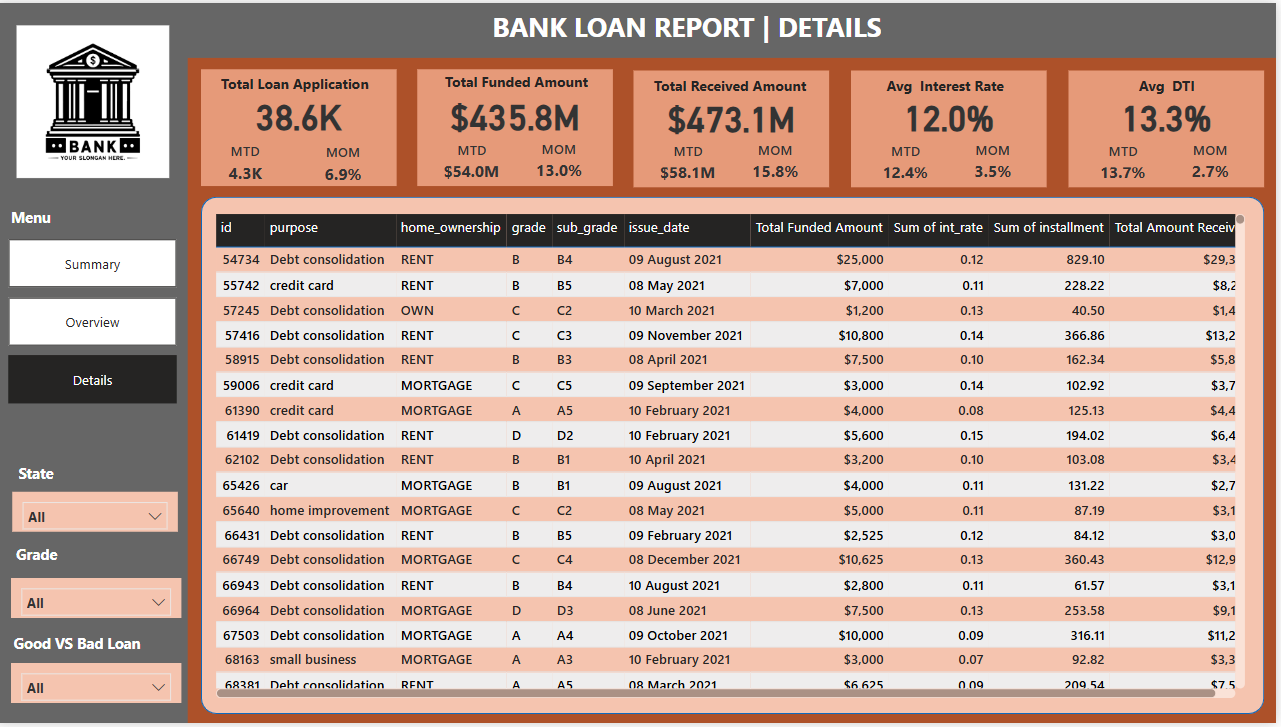

The page's visual inventory and layout, read from the dashboard file:
{"tool":"powerbi","page":{"name":"Details","canvas":[1280,720],"ordinal":2},"visuals":[{"type":"shape","box":[204.5,193.5,1063.5,517.3],"z":0},{"type":"shape","box":[0,0,1280,54.9],"z":1000},{"type":"shape","box":[0,51.9,191.8,668.4],"z":2000},{"type":"textbox","box":[491.3,0,447.3,52.1],"z":3000},{"type":"shape","box":[204.4,65.7,195.6,116.8],"z":3000,"group":"g1"},{"type":"shape","box":[421.3,65.9,195.6,116.8],"z":3000,"group":"g2"},{"type":"shape","box":[638.3,67.2,195.6,116.8],"z":3000,"group":"g3"},{"type":"shape","box":[855.2,67.2,195.6,116.8],"z":3000,"group":"g4"},{"type":"shape","box":[1072.1,67.2,195.6,116.8],"z":3000,"group":"g5"},{"type":"card","fields":{"Values":["bank_loan_data.Total Loan Applications"]},"box":[204.4,86.1,195.6,51.1],"z":4000,"group":"g1"},{"type":"card","fields":{"Values":["bank_loan_data.Total Funded Amount"]},"box":[421.3,86.3,195.6,51.1],"z":4000,"group":"g2"},{"type":"card","fields":{"Values":["bank_loan_data.Avg Interest Rate"]},"box":[855.2,87.6,195.6,51.1],"z":4000,"group":"g4"},{"type":"card","fields":{"Values":["bank_loan_data.Avg DTI"]},"box":[1072.1,87.6,195.6,51.1],"z":4000,"group":"g5"},{"type":"card","fields":{"Values":["bank_loan_data.Total Amount Received"]},"box":[638.3,87.7,195.6,51.1],"z":4000,"group":"g3"},{"type":"textbox","box":[277.5,206.3,146,38.6],"z":4000},{"type":"textbox","box":[436,63.3,179.8,32.9],"z":5000,"group":"g2"},{"type":"group","id":"g1","title":"Group 1","box":[204.4,65.7,195.6,121.9],"z":5000},{"type":"textbox","box":[219,65.7,166.4,30.7],"z":5000,"group":"g1"},{"type":"textbox","box":[634.2,66.9,208.6,32.9],"z":5000,"group":"g3"},{"type":"textbox","box":[869.8,67.2,166.4,30.7],"z":5000,"group":"g4"},{"type":"textbox","box":[1086.7,67.2,166.4,30.7],"z":5000,"group":"g5"},{"type":"group","id":"g2","title":"Group 1","box":[421.3,63.3,195.6,120.8],"z":6000},{"type":"card","title":"MTD","fields":{"Values":["bank_loan_data.MTD Funded Amount"]},"box":[438.8,137.4,74.5,42.3],"z":6000,"group":"g2"},{"type":"card","title":"MTD","fields":{"Values":["bank_loan_data.MTD Loan Applications"]},"box":[219,138.7,58.4,48.2],"z":6000,"group":"g1"},{"type":"card","title":"MTD","fields":{"Values":["bank_loan_data.MTD Avg Int Rate"]},"box":[872.7,138.7,74.5,42.3],"z":6000,"group":"g4"},{"type":"card","title":"MTD","fields":{"Values":["bank_loan_data.MTD Avg DTI"]},"box":[1089.6,138.7,74.5,42.3],"z":6000,"group":"g5"},{"type":"card","title":"MTD","fields":{"Values":["bank_loan_data.MTD Total Amount Rececived"]},"box":[655.8,138.8,74.5,42.3],"z":6000,"group":"g3"},{"type":"group","id":"g3","title":"Group 1","box":[634.2,66.9,208.6,118.6],"z":7000},{"type":"card","title":"MOM","fields":{"Values":["bank_loan_data.MOM Total Funded Amount"]},"box":[533.7,135.9,58.4,48.2],"z":7001,"group":"g2"},{"type":"card","title":"MOM","fields":{"Values":["bank_loan_data.MOM Total Amount Received"]},"box":[750.7,137.3,58.4,48.2],"z":7001,"group":"g3"},{"type":"card","title":"MOM","fields":{"Values":["bank_loan_data.MOM Avg Int Rate"]},"box":[967.6,137.3,58.4,48.2],"z":7001,"group":"g4"},{"type":"card","title":"MOM","fields":{"Values":["bank_loan_data.MOM Avg DTI"]},"box":[1184.5,137.3,58.4,48.2],"z":7001,"group":"g5"},{"type":"card","title":"MOM","fields":{"Values":["bank_loan_data.MOM Loan Applications"]},"box":[316.6,139.3,59.1,48.3],"z":7001,"group":"g1"},{"type":"group","id":"g4","title":"Group 1","box":[855.2,67.2,195.6,118.2],"z":8000},{"type":"group","id":"g5","title":"Group 1","box":[1072.1,67.2,194.9,119.4],"z":9000},{"type":"slicer","fields":{"Values":["bank_loan_data.address_state"]},"box":[15.7,488.6,165.3,39.8],"z":10000},{"type":"textbox","box":[17.8,455.6,64.5,32.9],"z":11000},{"type":"slicer","fields":{"Values":["bank_loan_data.grade"]},"box":[15.1,575,170.2,39.8],"z":12000},{"type":"textbox","box":[15.1,536.5,63.1,37],"z":13000},{"type":"slicer","fields":{"Values":["bank_loan_data.Good VS Bad loan"]},"box":[15.1,660,170.2,39.8],"z":14000},{"type":"textbox","box":[12.1,624.9,160.5,35],"z":15000},{"type":"textbox","box":[9.7,199.1,137.5,37.4],"z":16000},{"type":"tableEx","fields":{"Values":["bank_loan_data.id","bank_loan_data.purpose","bank_loan_data.home_ownership","bank_loan_data.grade","bank_loan_data.sub_grade","bank_loan_data.issue_date","bank_loan_data.Total Funded Amount","Sum(bank_loan_data.int_rate)","Sum(bank_loan_data.installment)","bank_loan_data.Total Amount Received"]},"box":[213.5,206.3,1040,493.4],"z":17000},{"type":"pageNavigator","box":[12.1,236.5,168.9,166.5],"z":18000},{"type":"image","box":[12.1,18.1,168.9,162.9],"z":19000}]}

Visuals, with their boxes in screenshot pixels (x1, y1, x2, y2), scaled from the page's 1280x720 canvas onto the 1281x727 screenshot:
shape: BBox(205, 195, 1269, 718)
shape: BBox(0, 0, 1280, 55)
shape: BBox(0, 52, 192, 726)
textbox: BBox(492, 0, 939, 53)
shape: BBox(205, 66, 400, 184)
shape: BBox(422, 67, 617, 184)
shape: BBox(639, 68, 835, 186)
shape: BBox(856, 68, 1052, 186)
shape: BBox(1073, 68, 1269, 186)
card - bank_loan_data.Total Loan Applications: BBox(205, 87, 400, 139)
card - bank_loan_data.Total Funded Amount: BBox(422, 87, 617, 139)
card - bank_loan_data.Avg Interest Rate: BBox(856, 88, 1052, 140)
card - bank_loan_data.Avg DTI: BBox(1073, 88, 1269, 140)
card - bank_loan_data.Total Amount Received: BBox(639, 89, 835, 140)
textbox: BBox(278, 208, 424, 247)
textbox: BBox(436, 64, 616, 97)
"Group 1" group: BBox(205, 66, 400, 189)
textbox: BBox(219, 66, 386, 97)
textbox: BBox(635, 68, 843, 101)
textbox: BBox(870, 68, 1037, 99)
textbox: BBox(1088, 68, 1254, 99)
"Group 1" group: BBox(422, 64, 617, 186)
"MTD" card: BBox(439, 139, 514, 181)
"MTD" card: BBox(219, 140, 278, 189)
"MTD" card: BBox(873, 140, 948, 183)
"MTD" card: BBox(1090, 140, 1165, 183)
"MTD" card: BBox(656, 140, 731, 183)
"Group 1" group: BBox(635, 68, 843, 187)
"MOM" card: BBox(534, 137, 593, 186)
"MOM" card: BBox(751, 139, 810, 187)
"MOM" card: BBox(968, 139, 1027, 187)
"MOM" card: BBox(1185, 139, 1244, 187)
"MOM" card: BBox(317, 141, 376, 189)
"Group 1" group: BBox(856, 68, 1052, 187)
"Group 1" group: BBox(1073, 68, 1268, 188)
slicer - bank_loan_data.address_state: BBox(16, 493, 181, 534)
textbox: BBox(18, 460, 82, 493)
slicer - bank_loan_data.grade: BBox(15, 581, 185, 621)
textbox: BBox(15, 542, 78, 579)
slicer - bank_loan_data.Good VS Bad loan: BBox(15, 666, 185, 707)
textbox: BBox(12, 631, 173, 666)
textbox: BBox(10, 201, 147, 239)
tableEx - bank_loan_data.id x bank_loan_data.purpose: BBox(214, 208, 1254, 707)
pageNavigator: BBox(12, 239, 181, 407)
image: BBox(12, 18, 181, 183)
